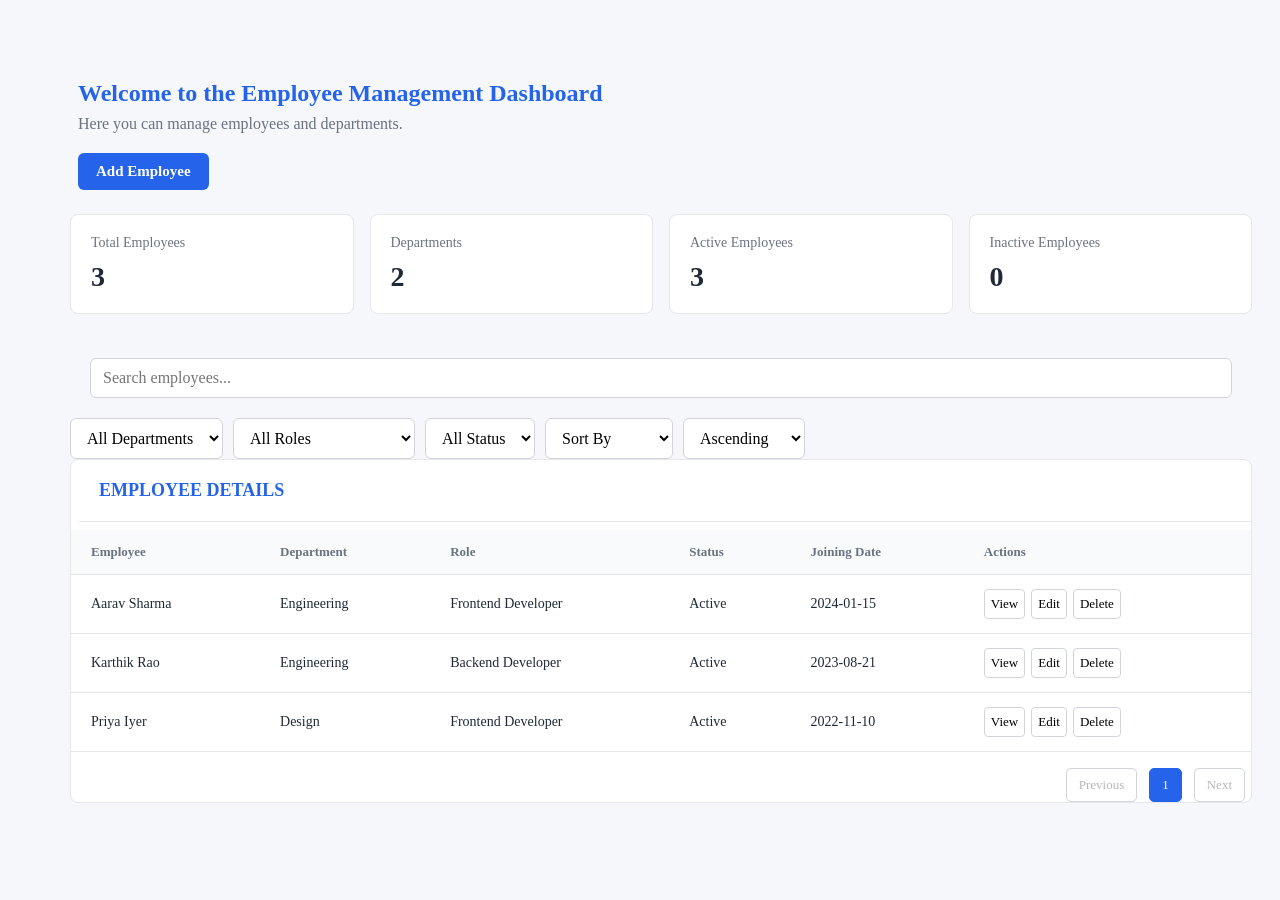
it: Filter › should filter employees using department and role
This screenshot has width=1280, height=900.
Select "Engineering" in the 1st dropdown showing "All Departments" at (146, 438), box x1=70 y1=418 x2=223 y2=459
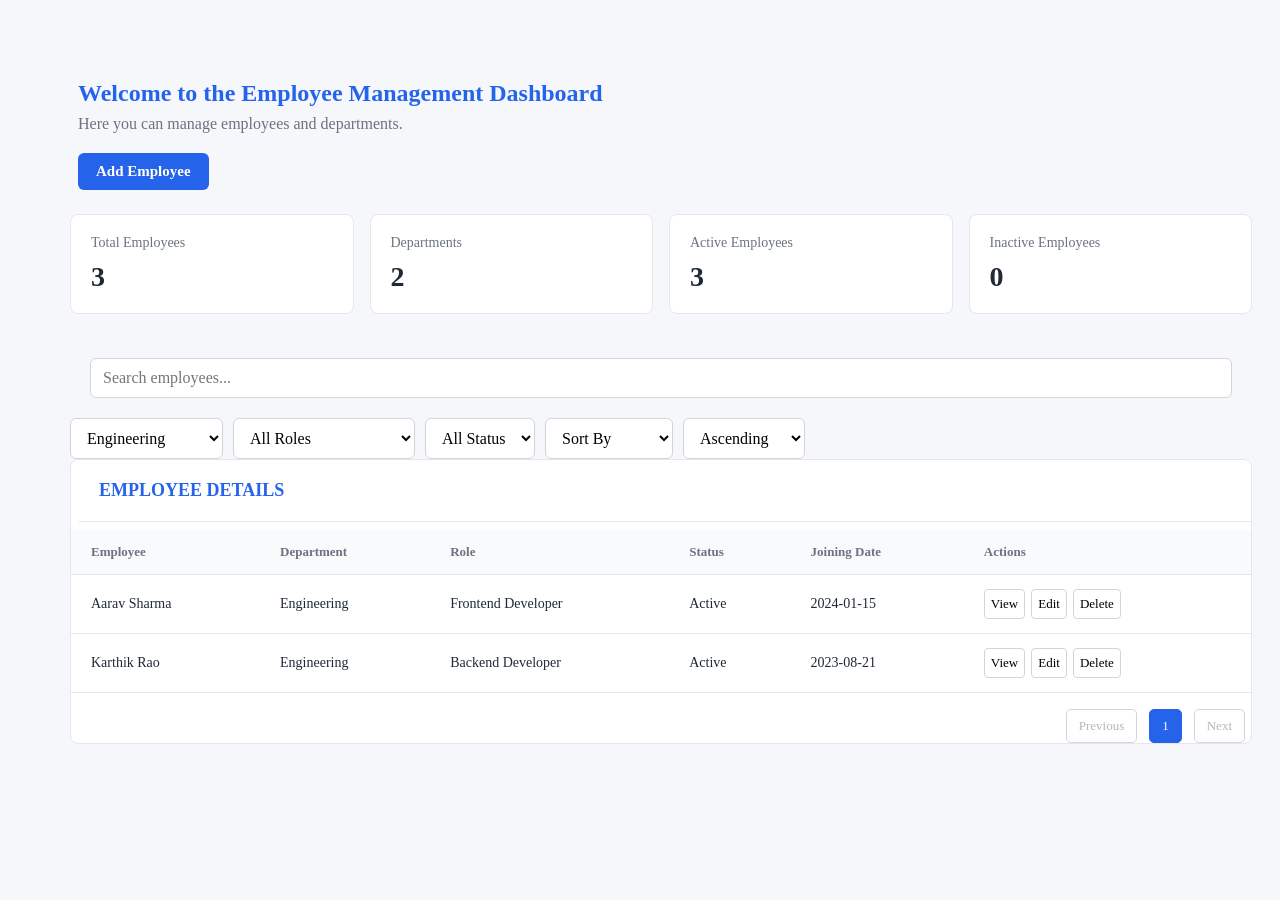
Select "Frontend Developer" in the 2nd dropdown showing "All Roles" at (324, 438), box x1=233 y1=418 x2=415 y2=459
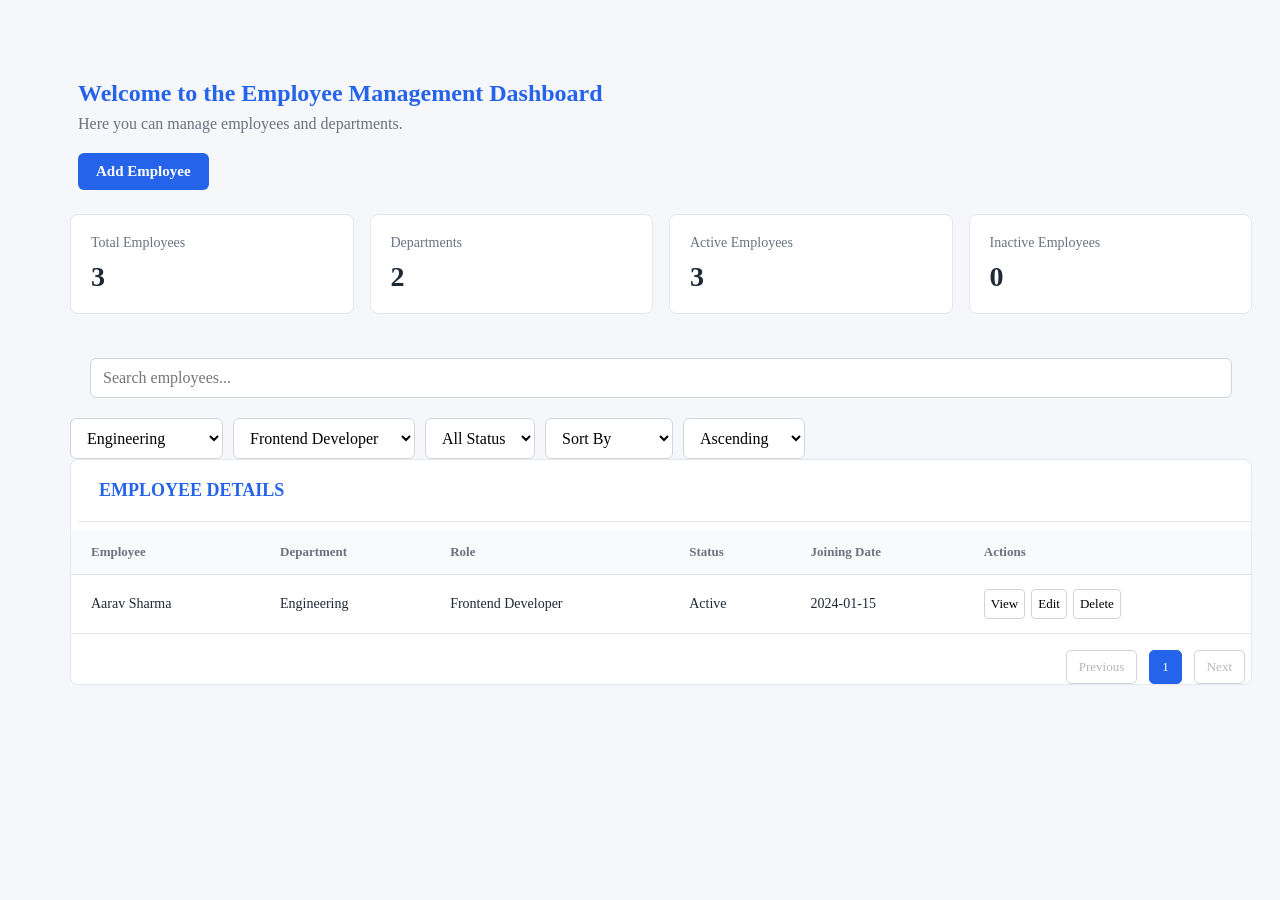
Check: the text "Aarav Sharma" is shown, box x1=71 y1=574 x2=260 y2=634
Check: the text "Karthik Rao" is gone
